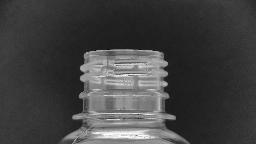No Cap: (69, 46, 179, 126)
